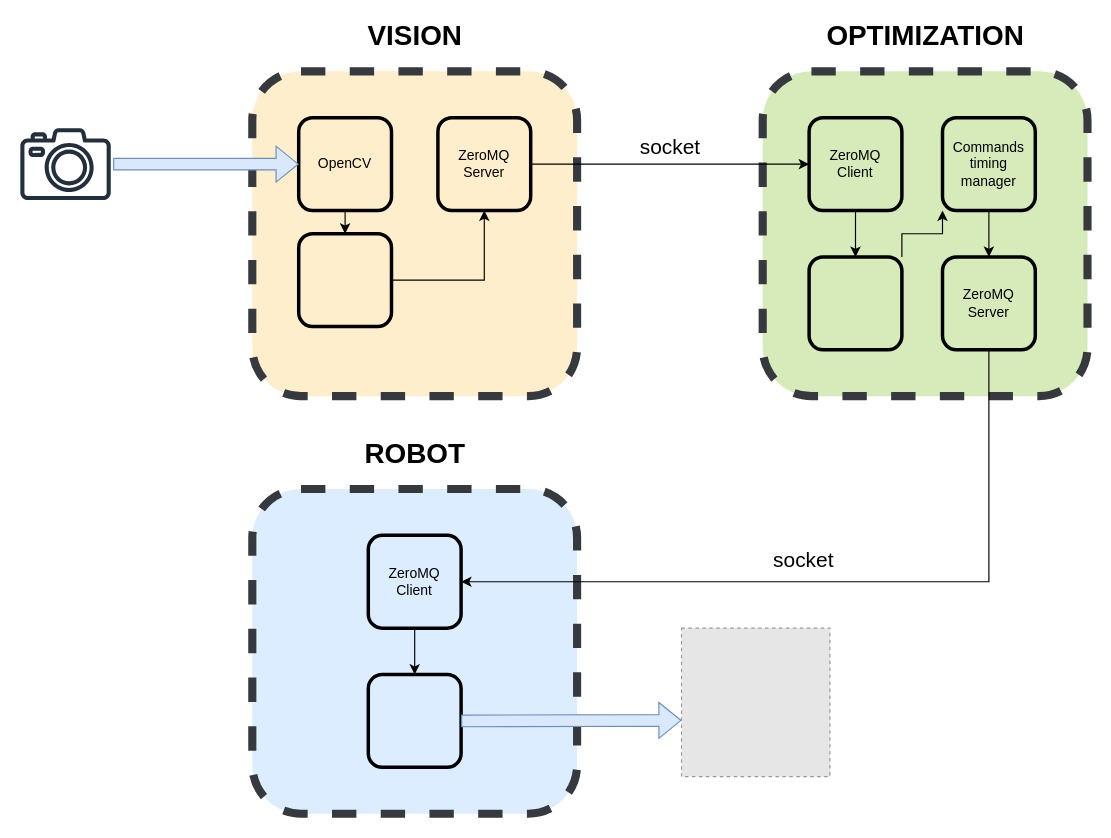
The diagram is 1111 pixels wide and 838 high, and some of its shapes have lost their labels. Grey dashed boxes stand in for pictures. The centre of each missing label's shape, as x and y in pixels:
"ML" goes at pixel 344 279.
"Optimization IMPL" goes at pixel 855 303.
"Robot Control" goes at pixel 414 720.
